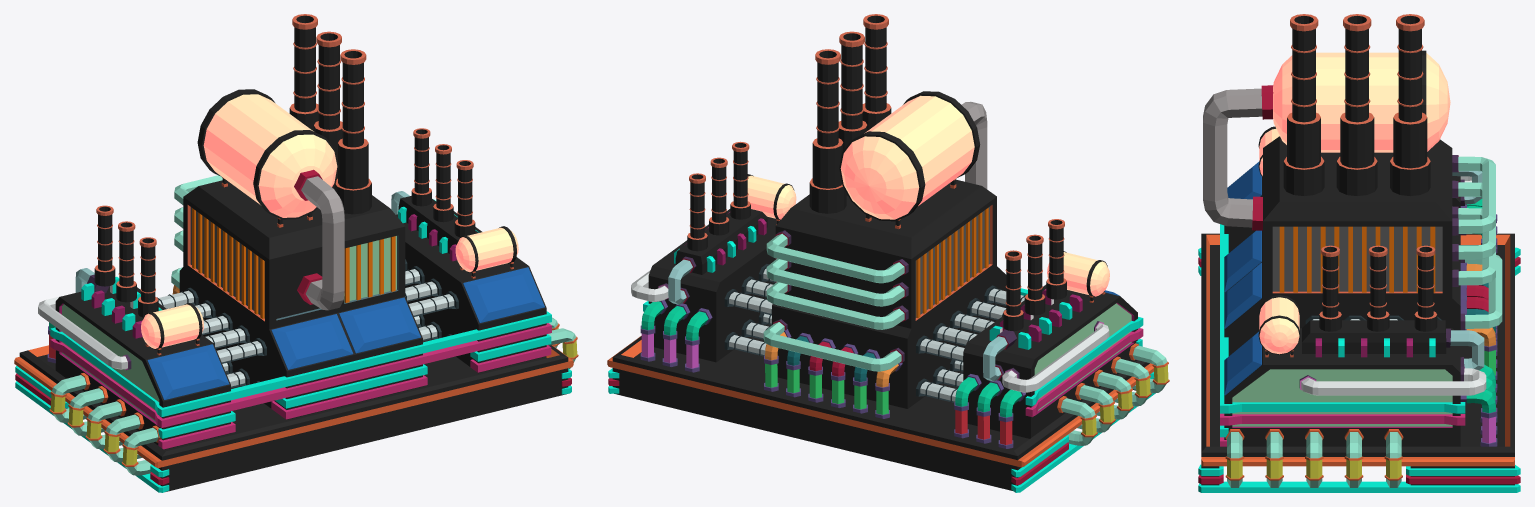
The model's file is AssemblerSingleMat.fbx.
3 views of the same model, side by side, from view 1: azimuth 30°, elevation 25°; view 2: azimuth 150°, elevation 25°; view 3: azimuth 270°, elevation 25° (orthographic). The views are drawn at different scales.
Visible parts, largest first — view 1: Assembler_LOD0; view 2: Assembler_LOD0; view 3: Assembler_LOD0.
Boxes of the visible parts, x1=… form: Assembler_LOD0: x1=14, y1=14, x2=578, y2=492; Assembler_LOD0: x1=607, y1=14, x2=1169, y2=492; Assembler_LOD0: x1=1198, y1=14, x2=1520, y2=492.
Size of what is drawn, in the model's own units: 8784 by 6415 by 4908.
6 materials, 1 textured.
